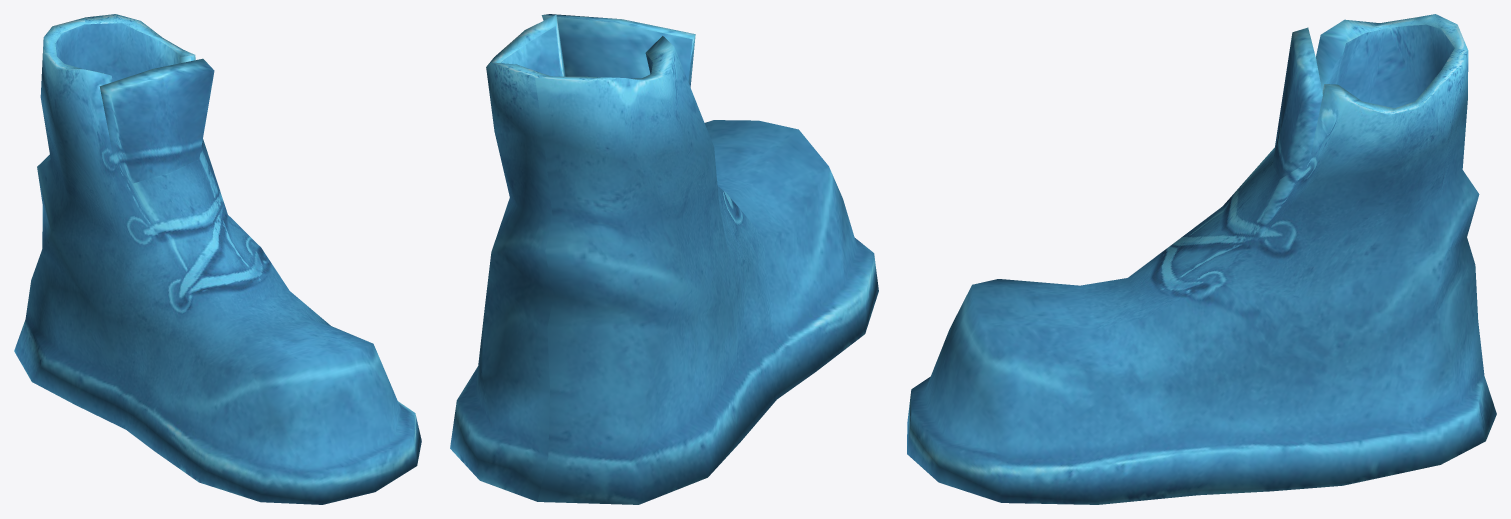
The model's file is Boot.FBX.
3 renders of one model, left to right at view 1: azimuth 30°, elevation 25°; view 2: azimuth 150°, elevation 25°; view 3: azimuth 270°, elevation 25°, orthographic. The views are drawn at different scales.
Visible parts, largest first — view 1: Boot_low; view 2: Boot_low; view 3: Boot_low.
Part boxes in pixels (<box>): Boot_low: <box>14,14,421,504</box>; Boot_low: <box>450,14,878,504</box>; Boot_low: <box>907,14,1496,504</box>.
Size of the model in its own units: 66.97 by 87.12 by 123.
